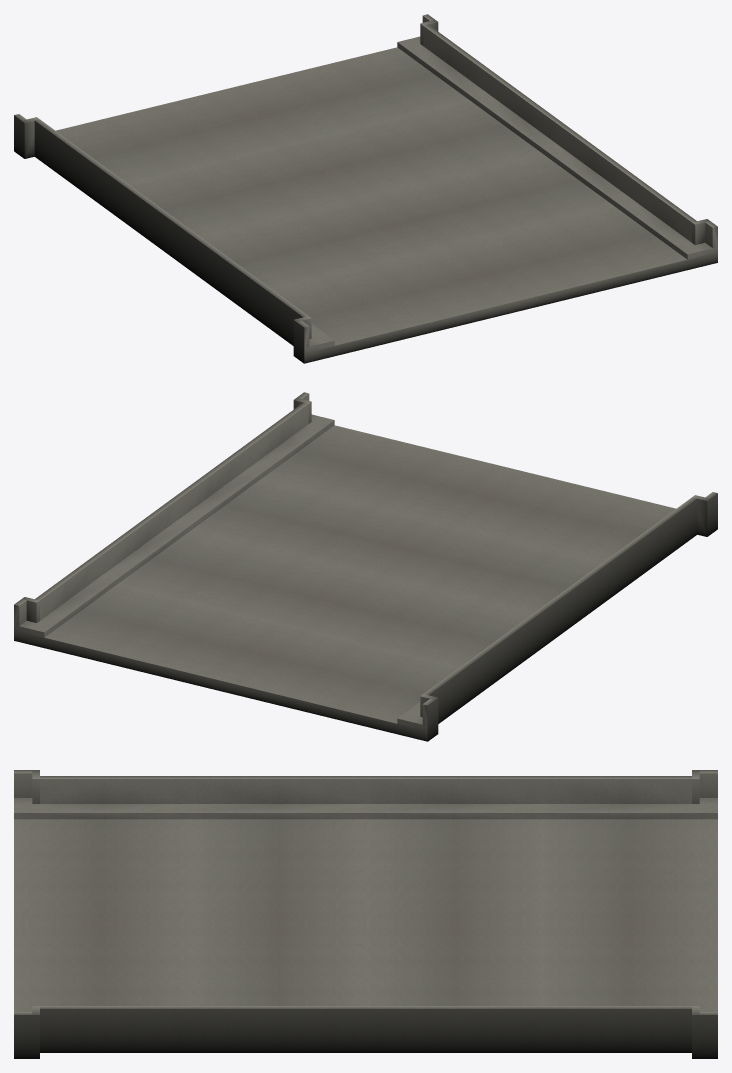
Rendered from 4RAIL_KONKURI_ONLY.glb.
3 renders of one model, top to bottom at view 1: azimuth 30°, elevation 25°; view 2: azimuth 150°, elevation 25°; view 3: azimuth 270°, elevation 25°, orthographic. The views are drawn at different scales.
Visible parts, largest first — view 1: obj1; view 2: obj1; view 3: obj1.
Part boxes in pixels (bbox=[...]): obj1: bbox=[14, 14, 717, 363]; obj1: bbox=[14, 392, 717, 741]; obj1: bbox=[14, 770, 717, 1058].
Bounding box in the file's own units: 82.33 × 6.88 × 100.
Materials: 1 (1 with a texture image).
